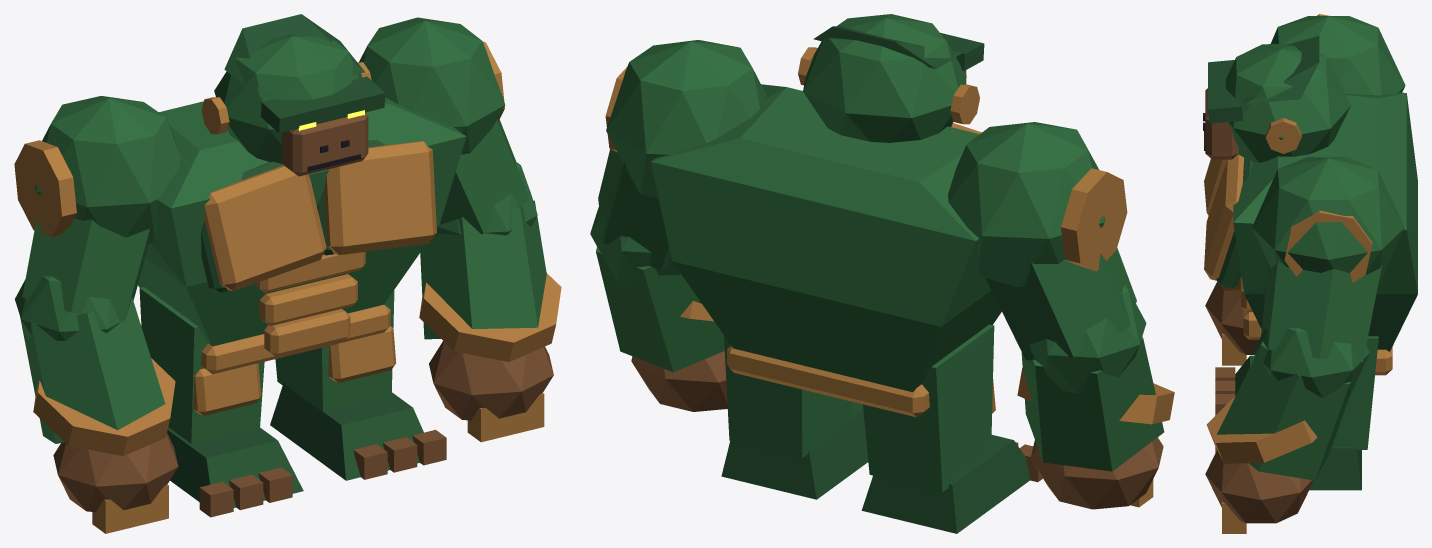
The model's file is goriba.glb.
3 renders of one model, left to right at view 1: azimuth 30°, elevation 25°; view 2: azimuth 150°, elevation 25°; view 3: azimuth 270°, elevation 25°, orthographic. The views are drawn at different scales.
Visible parts, largest first — view 1: Goriba; view 2: Goriba; view 3: Goriba.
Part boxes in pixels (x1,y1,x2,y2): Goriba: [14, 14, 561, 533]; Goriba: [590, 14, 1174, 533]; Goriba: [1203, 14, 1417, 533].
Size of the model in its own units: 4.84 by 3.86 by 1.92.
